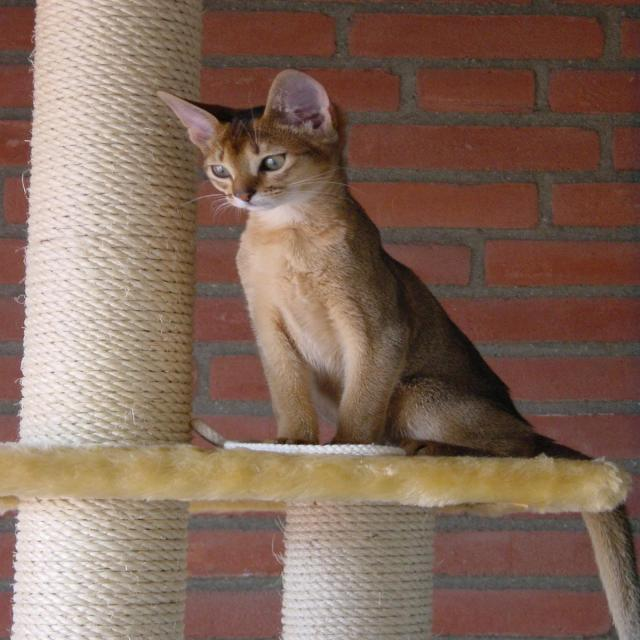Abyssinian: (155, 70, 359, 228)
